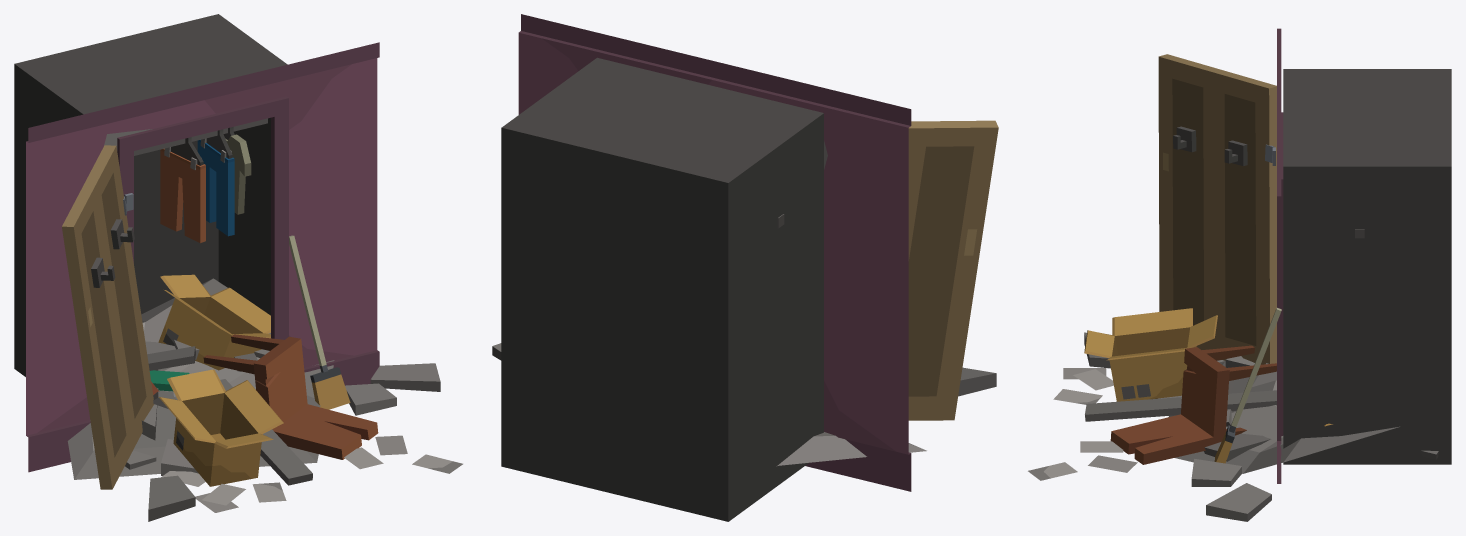
File: AI_Env_Wall_Pink_Closet.fbx
The picture shows the model from 3 angles, left to right: view 1: azimuth 30°, elevation 25°; view 2: azimuth 150°, elevation 25°; view 3: azimuth 270°, elevation 25°; orthographic projection. The views are drawn at different scales.
Parts seen in each view (by area): view 1: AI_Env_Wall_Pink_Closet; view 2: AI_Env_Wall_Pink_Closet; view 3: AI_Env_Wall_Pink_Closet.
Part boxes in pixels (bbox=[...]): AI_Env_Wall_Pink_Closet: bbox=[14, 14, 462, 521]; AI_Env_Wall_Pink_Closet: bbox=[492, 14, 998, 521]; AI_Env_Wall_Pink_Closet: bbox=[1028, 28, 1451, 521].
Size of the model in its own units: 5.91 by 4.69 by 5.35.
